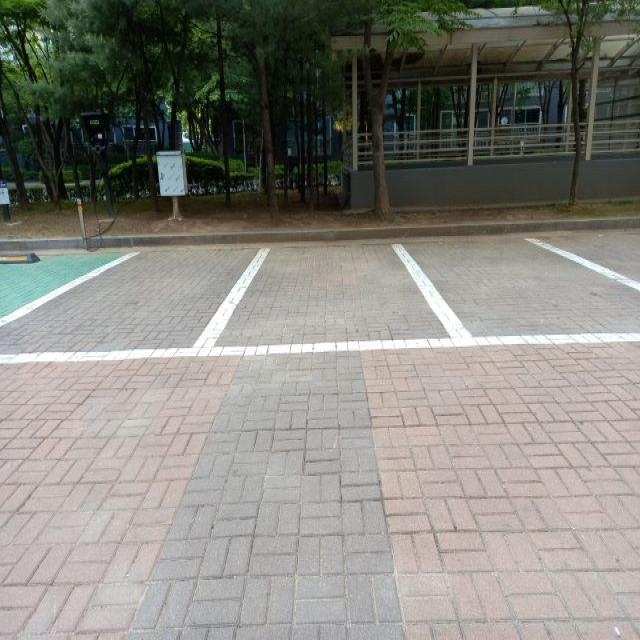empty: (2, 243, 240, 354), (223, 241, 439, 348), (435, 242, 640, 346)
